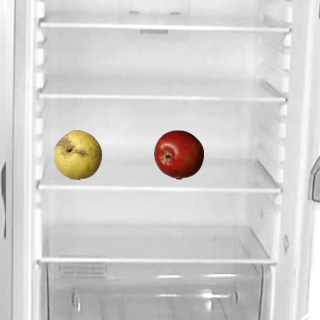Apple Braeburn: (153, 129, 203, 179)
Apple Golden 1: (52, 129, 102, 179)
